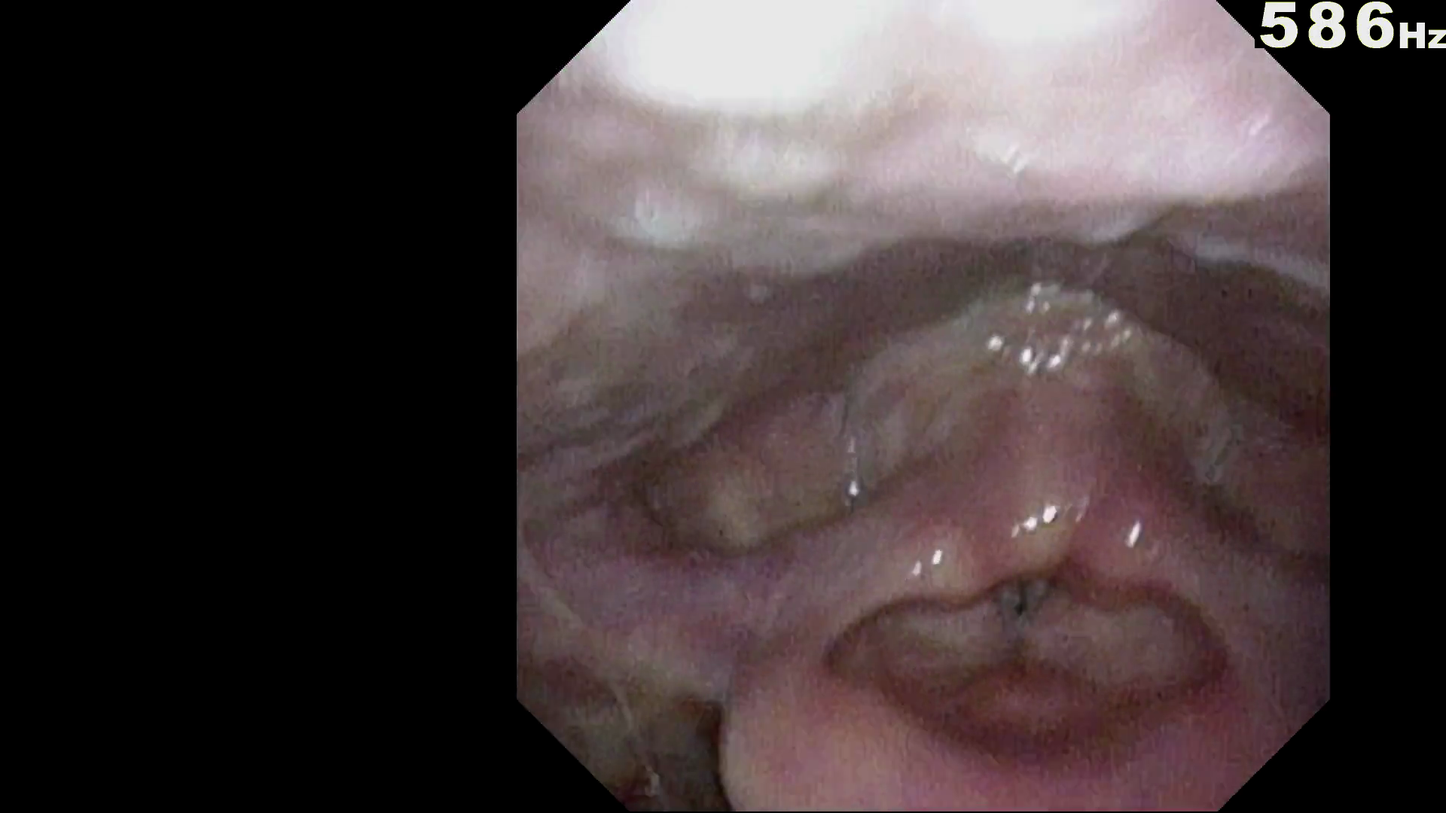epiglottis: (683, 489, 1279, 677)
trachea: (969, 566, 1090, 685)
